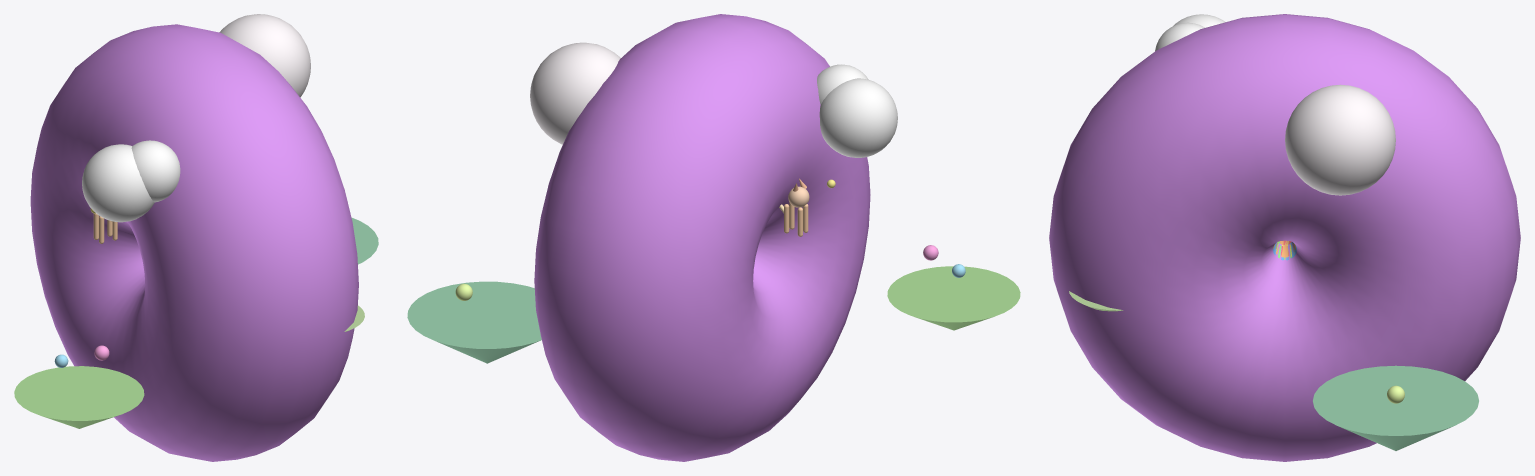
The picture shows the model from 3 angles, left to right: view 1: azimuth 30°, elevation 25°; view 2: azimuth 150°, elevation 25°; view 3: azimuth 270°, elevation 25°; orthographic projection. The views are drawn at different scales.
Parts seen in each view (by area): view 1: rainbow_purple, island_1, cloud_1, cloud_3, cloud_2, island_2; view 2: rainbow_purple, island_2, island_1, cloud_3, cloud_1, cloud_2; view 3: rainbow_purple, cloud_3, island_2, cloud_2.
Boxes of the visible parts, bbox=[...] form: rainbow_purple: bbox=[30, 24, 358, 461]; island_1: bbox=[14, 366, 144, 428]; cloud_1: bbox=[82, 144, 154, 222]; cloud_3: bbox=[219, 14, 310, 97]; cloud_2: bbox=[131, 140, 180, 202]; island_2: bbox=[351, 217, 378, 264]; rainbow_purple: bbox=[534, 14, 870, 461]; island_2: bbox=[407, 281, 541, 363]; island_1: bbox=[887, 266, 1020, 330]; cloud_3: bbox=[530, 42, 620, 144]; cloud_1: bbox=[819, 78, 897, 157]; cloud_2: bbox=[817, 64, 868, 104]; rainbow_purple: bbox=[1049, 14, 1520, 461]; cloud_3: bbox=[1285, 84, 1395, 195]; island_2: bbox=[1313, 365, 1478, 450]; cloud_2: bbox=[1155, 22, 1204, 51].
Bounding box in the file's own units: 20.5 × 17 × 17.
